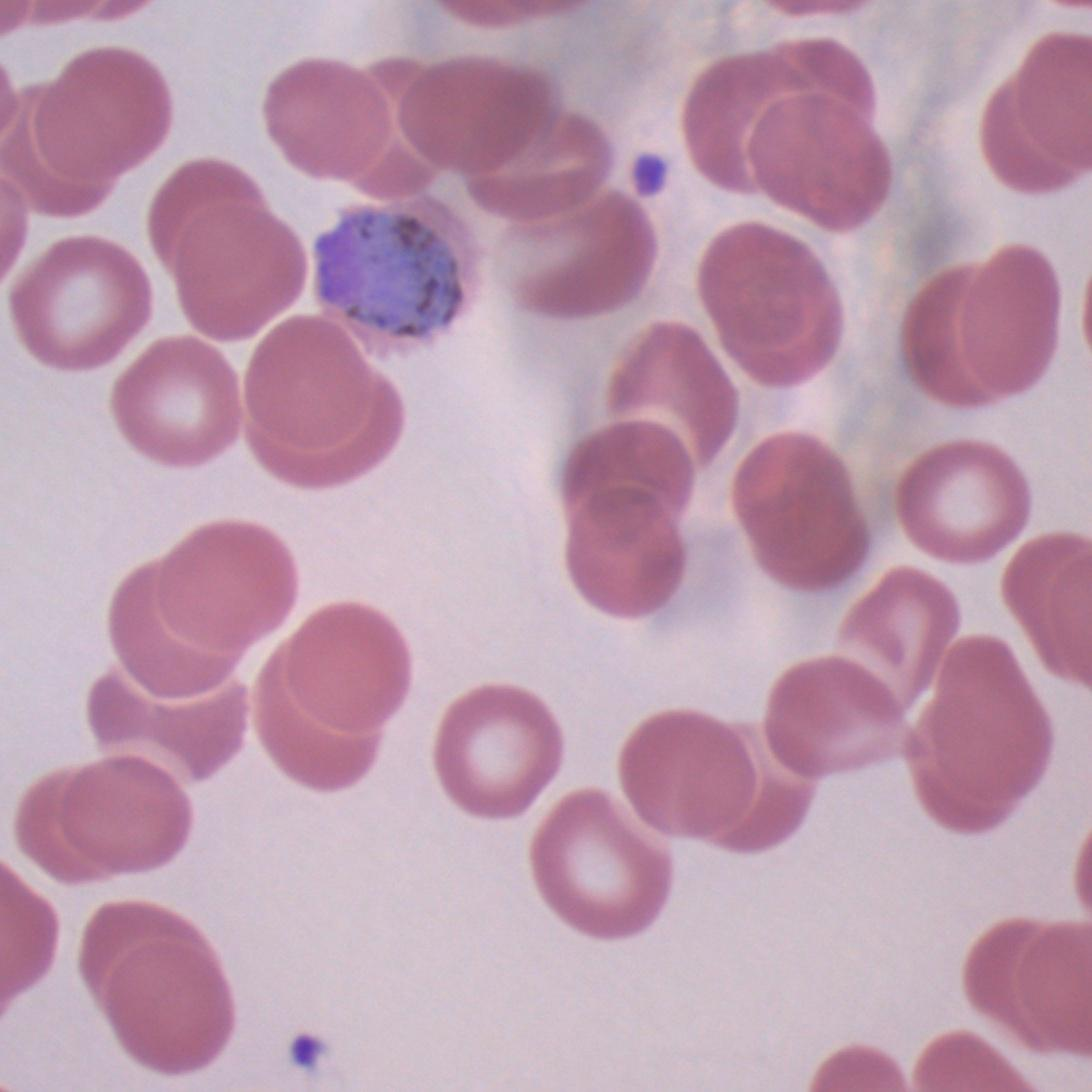Infected: (302, 191, 485, 369)
Uninfected: (134, 519, 294, 673), (698, 222, 845, 388), (20, 46, 168, 201), (728, 429, 868, 589), (175, 193, 313, 354), (741, 87, 892, 231), (931, 636, 1050, 815), (264, 58, 418, 195), (618, 711, 773, 847), (86, 936, 237, 1073), (531, 789, 669, 936), (8, 233, 153, 372), (90, 662, 250, 785), (606, 320, 738, 466), (398, 57, 554, 180), (250, 368, 408, 487), (931, 249, 1057, 398), (103, 333, 243, 467), (684, 50, 808, 197), (245, 308, 377, 445), (765, 656, 905, 785), (515, 190, 656, 318), (980, 28, 1090, 192), (282, 602, 413, 733), (562, 480, 686, 616), (430, 685, 558, 816), (837, 567, 957, 706), (896, 438, 1030, 562), (2, 80, 119, 218), (469, 117, 618, 224), (562, 418, 697, 529), (55, 761, 187, 873), (12, 768, 117, 884), (759, 36, 873, 118)
